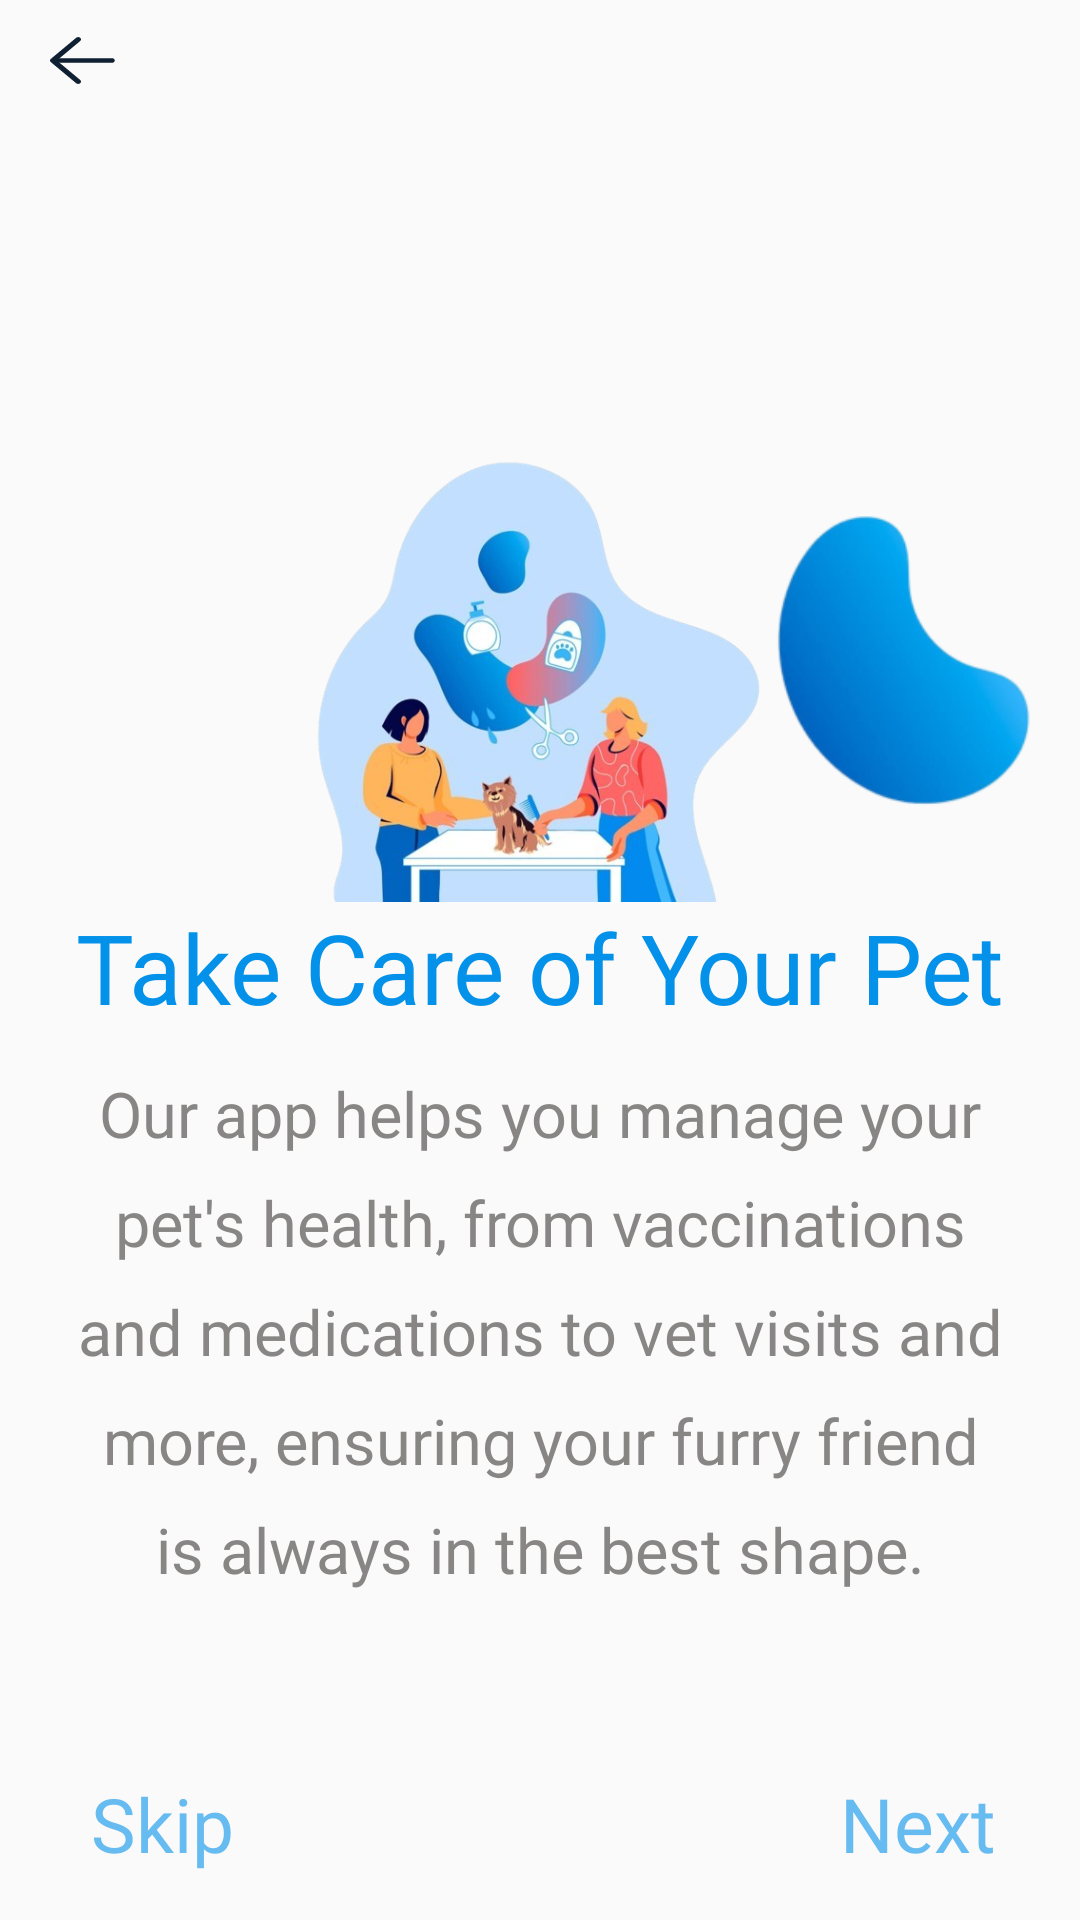

Screen size 1080px x 1920px. Icon name, then its center in pixels as (x=x, y=y):
arrow back: (x=82, y=60)
